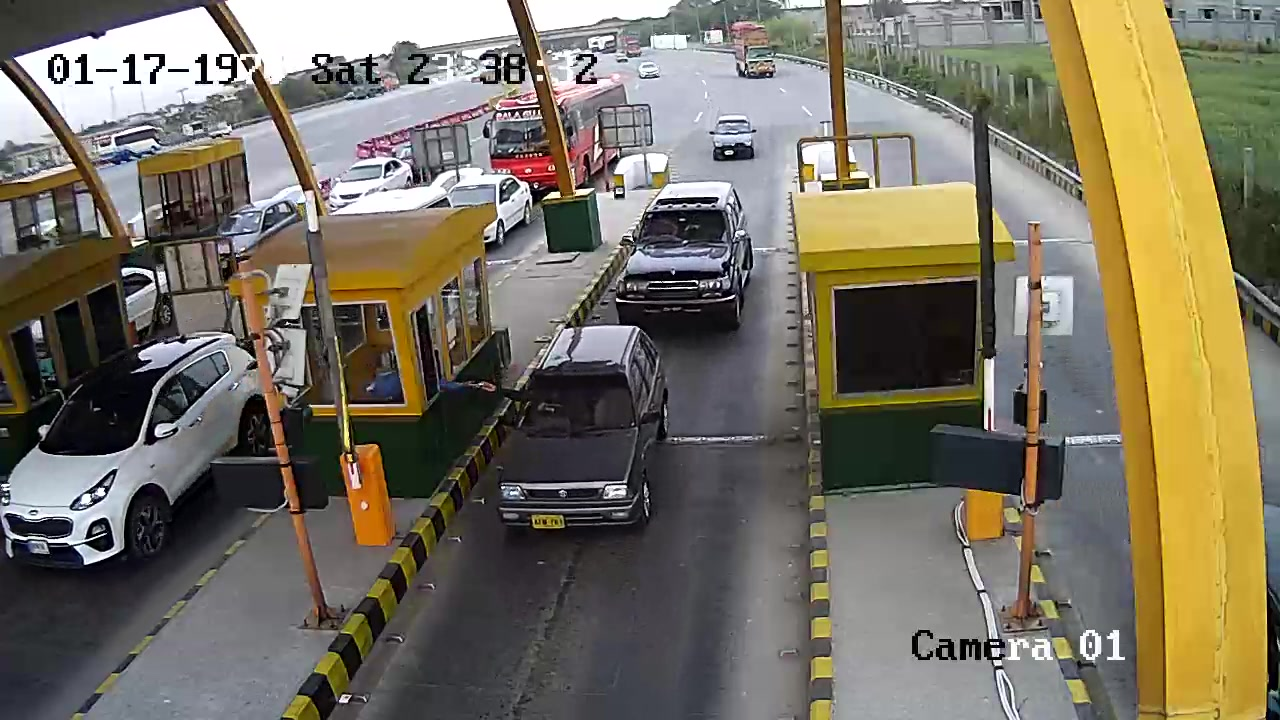F1: (500, 321, 671, 542), (609, 177, 770, 327)
